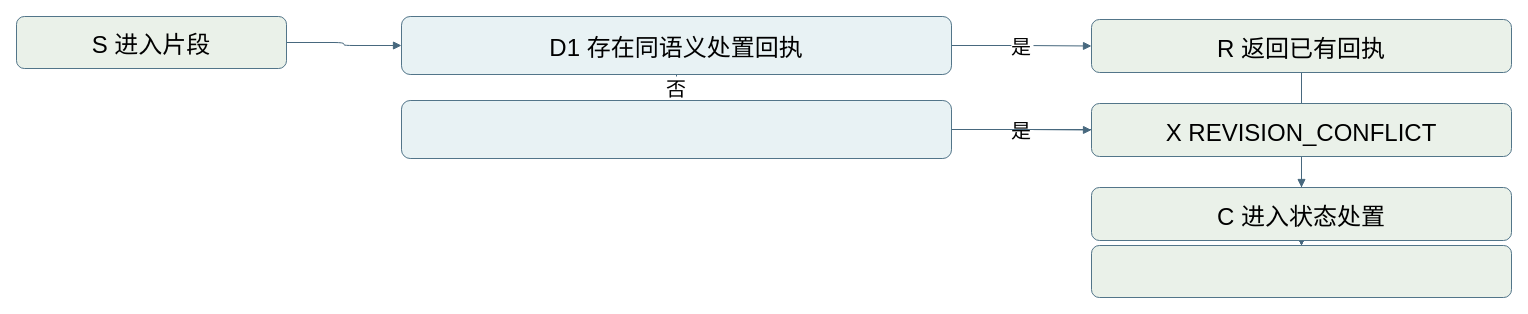
The diagram is 1528 pixels wide and 314 high, and some of its shapes have lost their labels. Each missing label, with the centre of its shape:
D2 目标修订与预期不符: the point at 676,129
T 统一退出: the point at 1301,271
